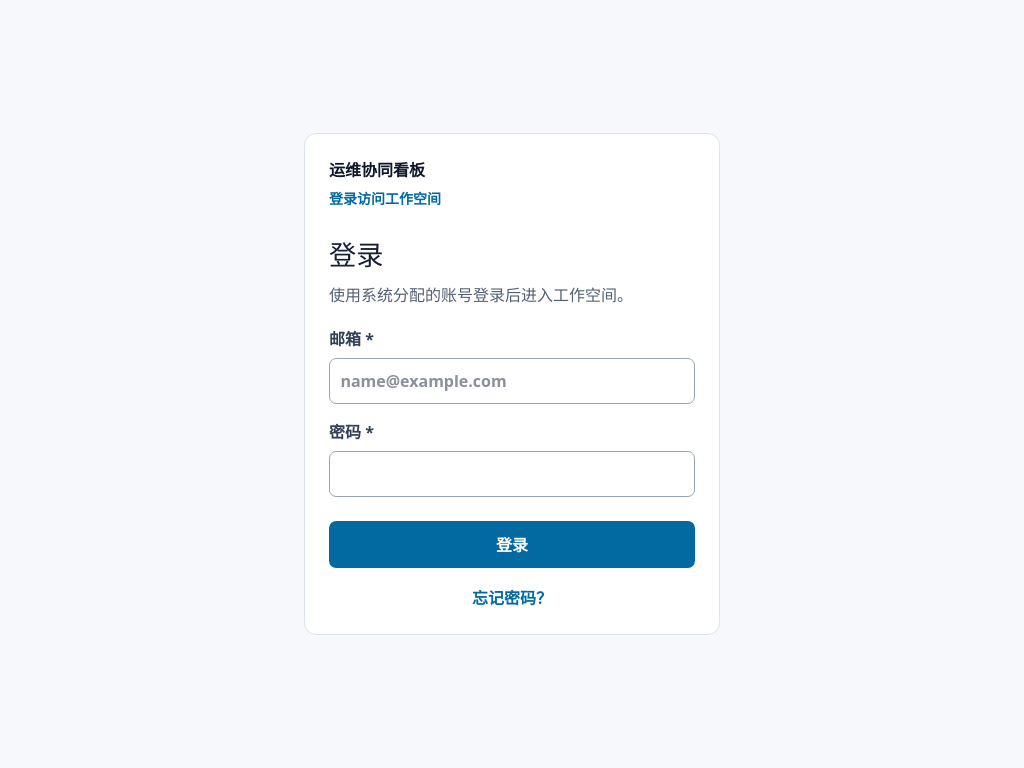
受保护路由 › 恶意 returnTo 不会跳出本站（回退到工作台）
Type "a@example.com" into the field labelled "邮箱 *" at (512, 381), box [329,358,695,404]
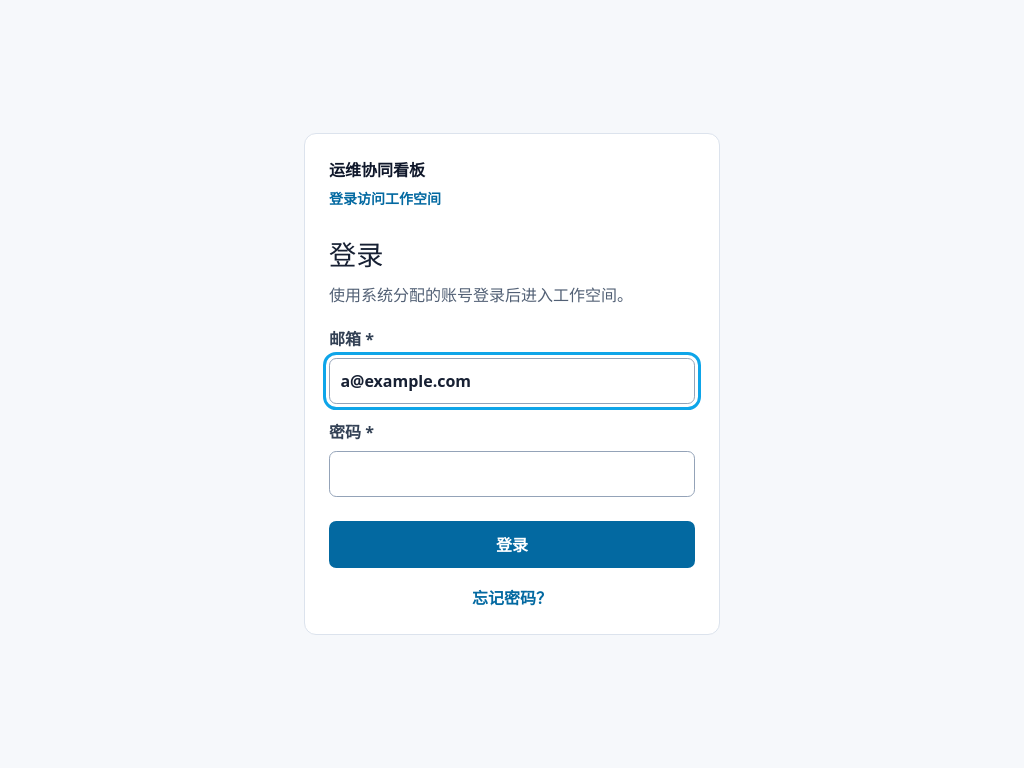
Type "secret-password" into the password field labelled "密码 *" at (512, 474), box [329,451,695,498]
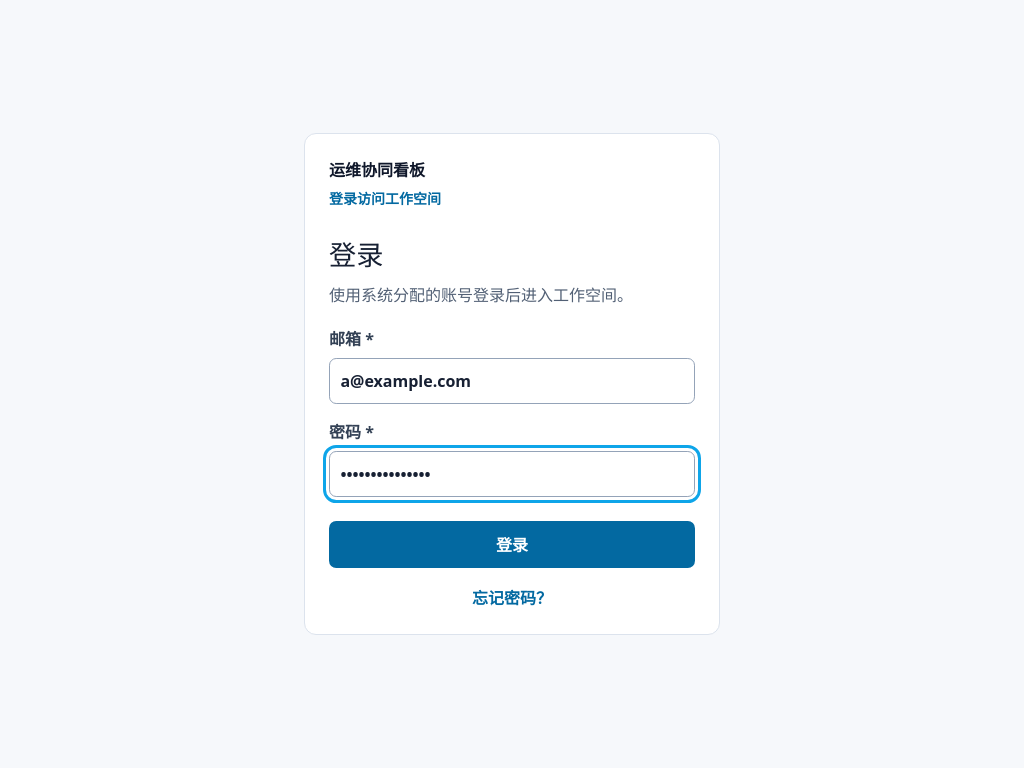
Click the button "登录" at (512, 545), box [329,522,695,568]
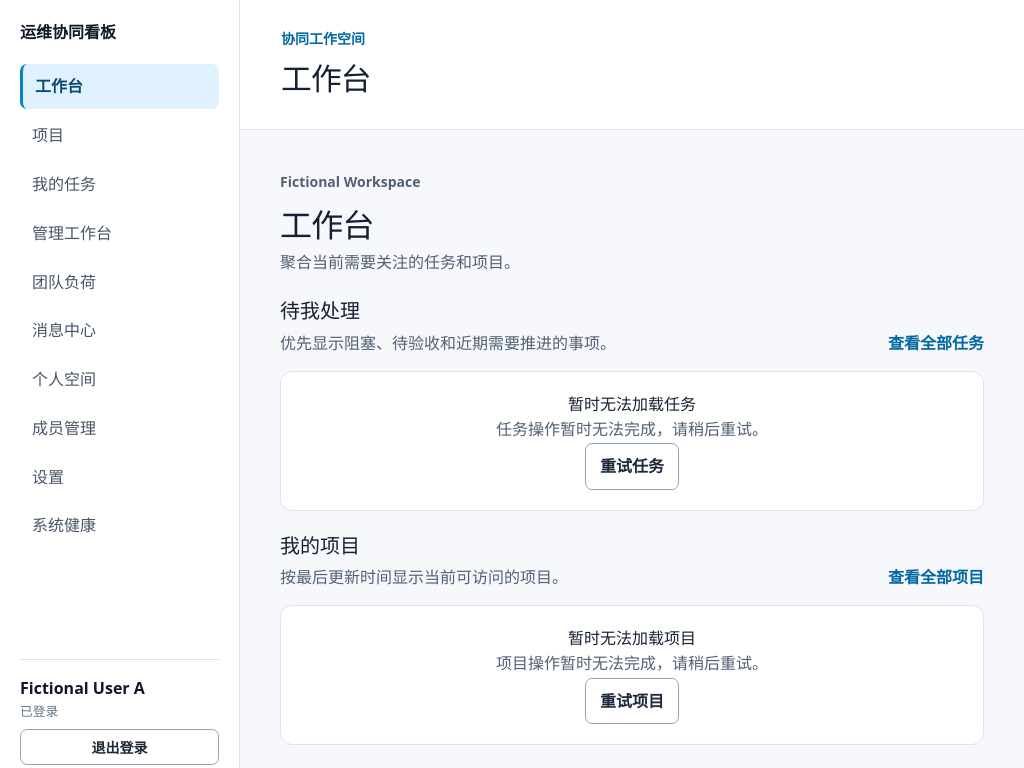
Result: the heading "工作台" below "协同工作空间" is shown at [281,57,371,99]
